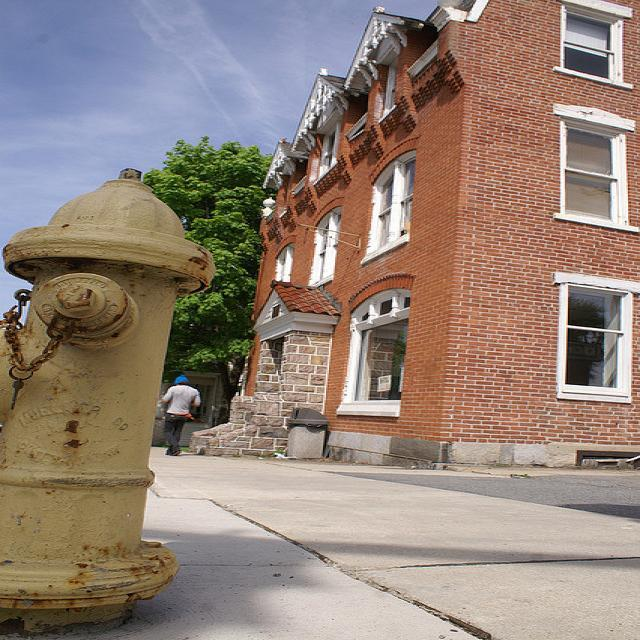fire_hydrant: (3, 157, 230, 634)
